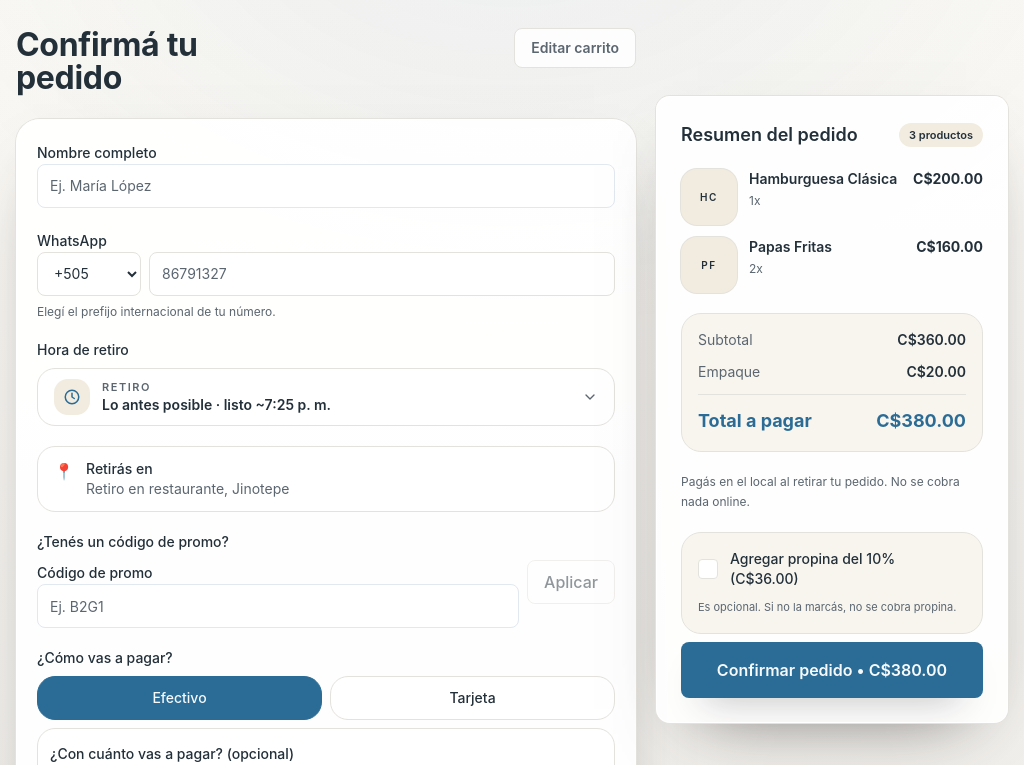
Test: checkout sin redundancias › deja elegir la forma de pago y arranca en efectivo (T11)
Expected: the radio button labelled "Efectivo" is checked, [37,676,322,720]
Click the radio button labelled "Tarjeta": {"x": 472, "y": 698} [330,676,615,720]
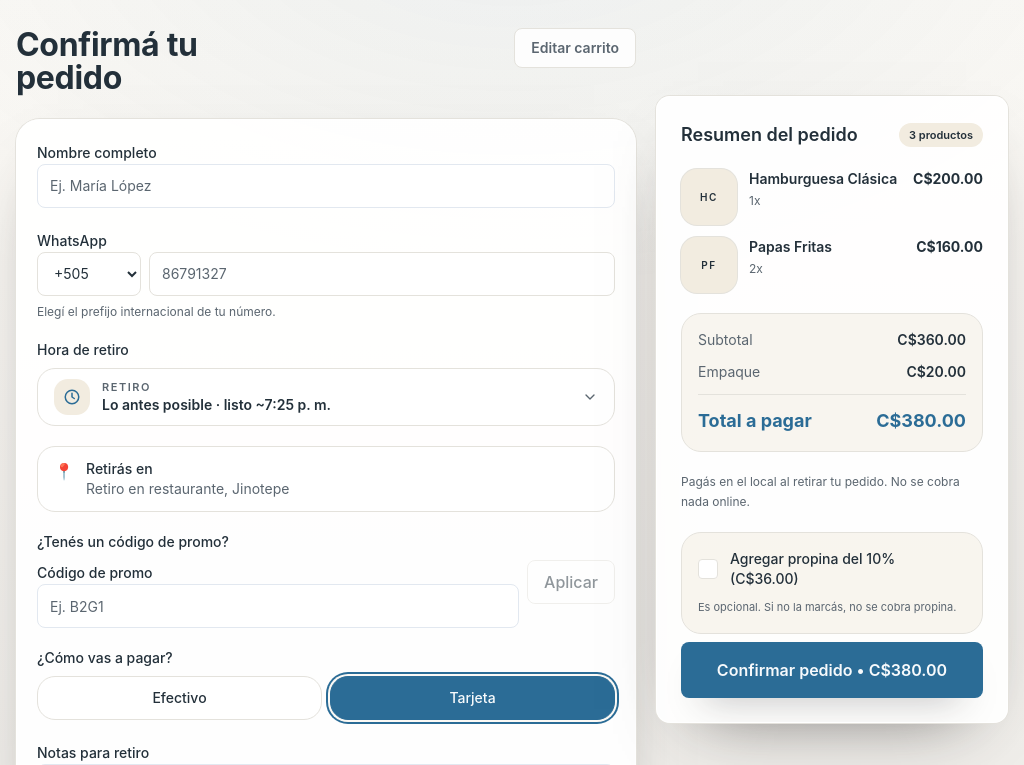
Expected: the radio button labelled "Tarjeta" is checked, [330,676,615,720]
Expected: the radio button labelled "Efectivo" is not checked, [37,676,322,720]
